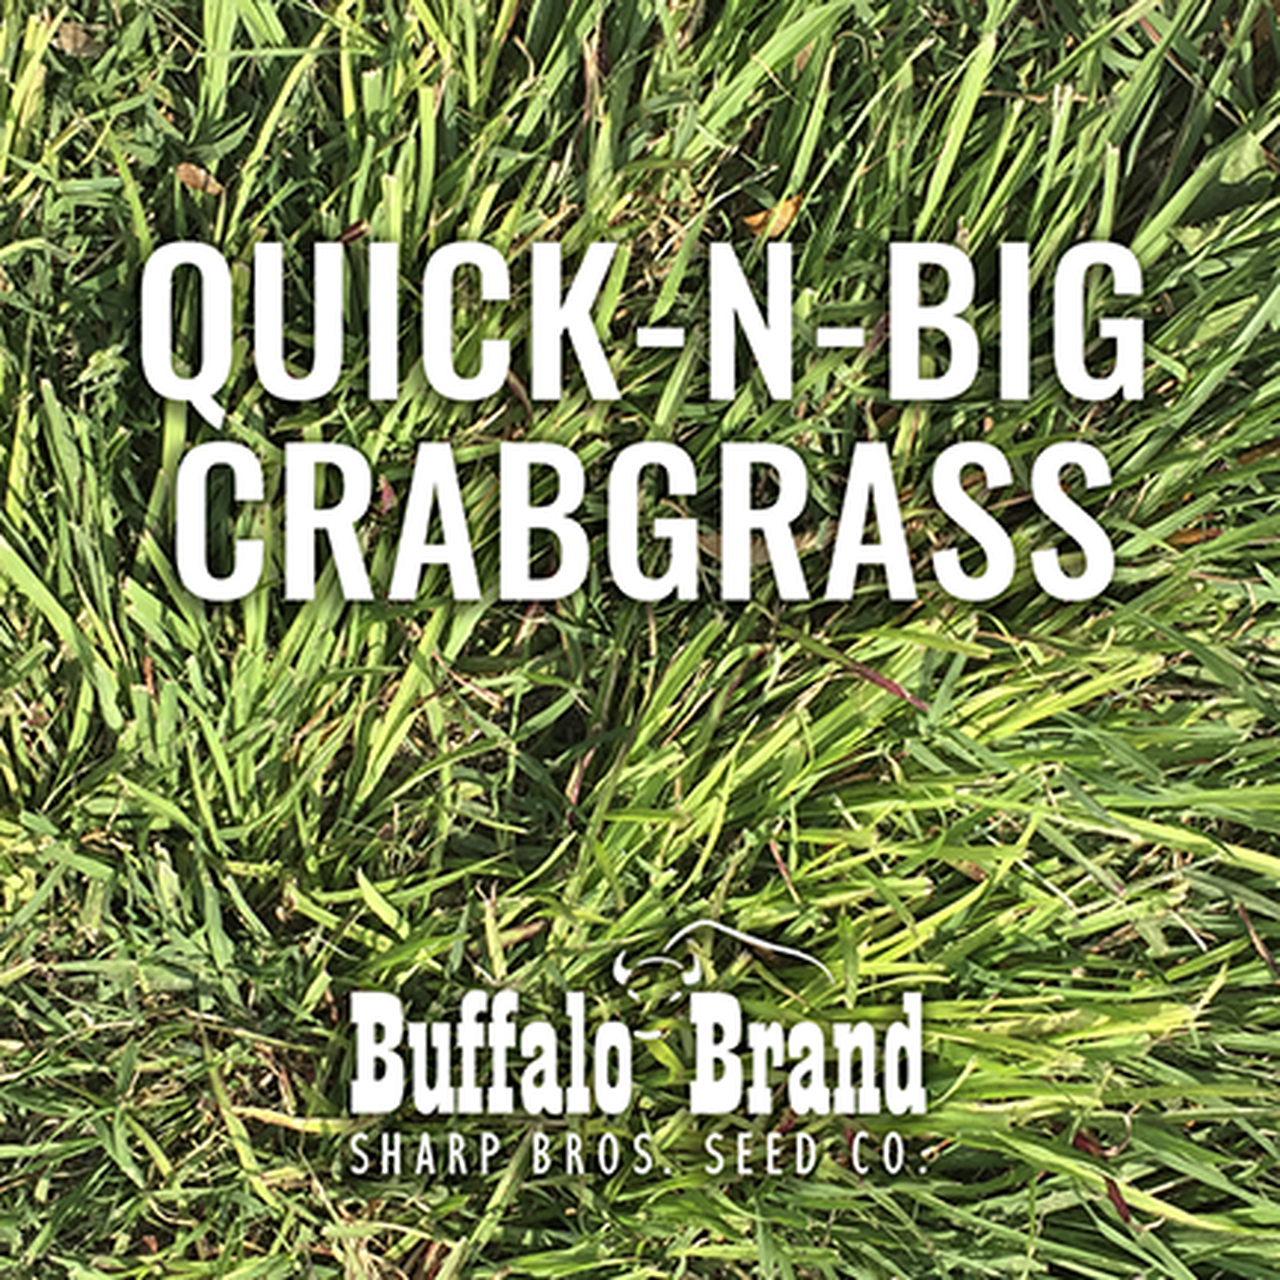crabgrass: (4, 5, 1280, 1245)
